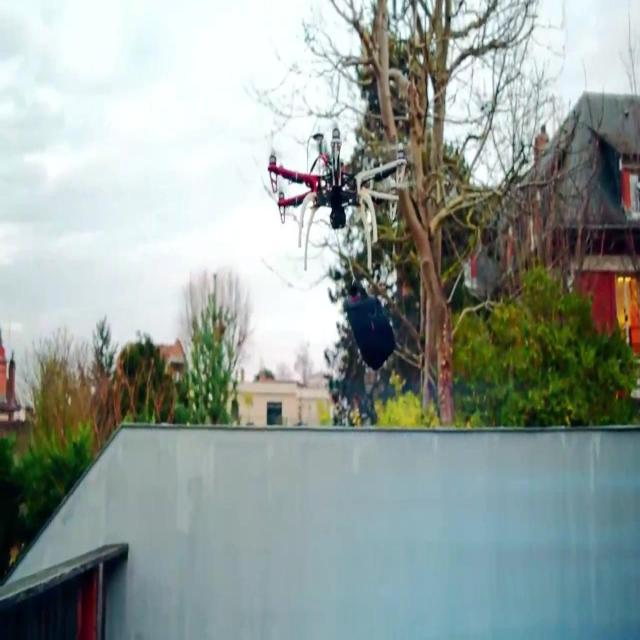drone: (267, 124, 406, 278)
